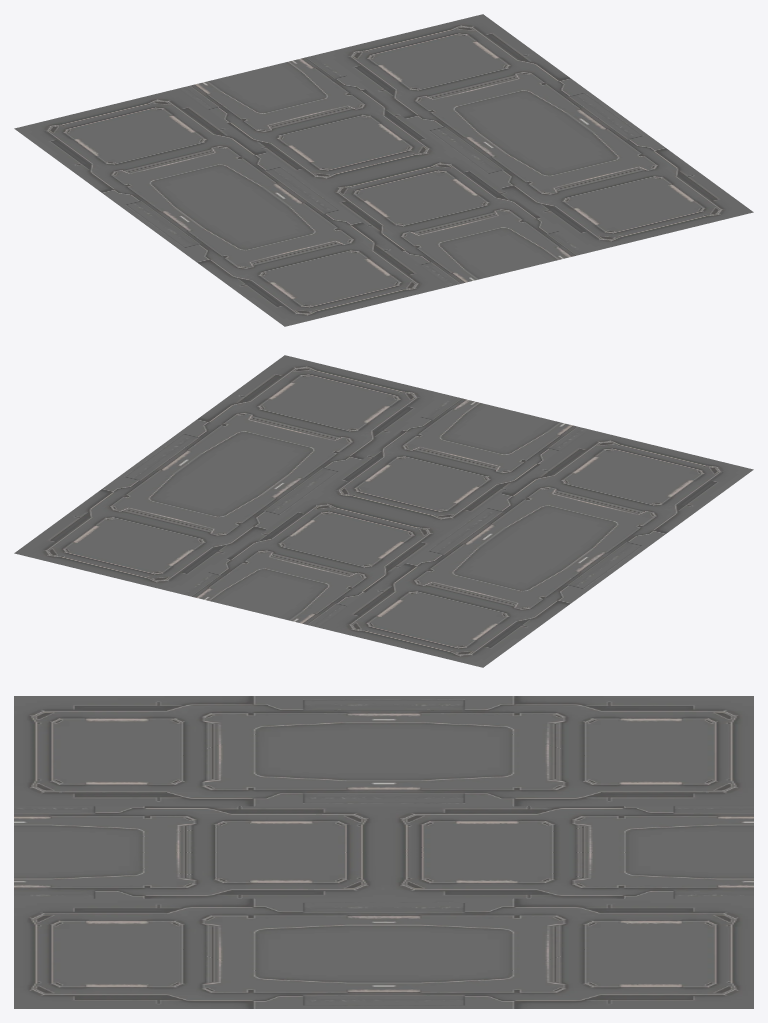
Rendered from Platform_3Plates.glb.
3 views of the same model, one above another, from view 1: azimuth 30°, elevation 25°; view 2: azimuth 150°, elevation 25°; view 3: azimuth 270°, elevation 25° (orthographic). The views are drawn at different scales.
Parts seen in each view (by area): view 1: Platform_3Plates; view 2: Platform_3Plates; view 3: Platform_3Plates.
Part boxes in pixels (x1,y1,x2,y2): Platform_3Plates: (14,14,753,326); Platform_3Plates: (14,355,753,667); Platform_3Plates: (14,696,753,1008).
Bounding box in the file's own units: 4 × 0 × 4.
1 material, 1 textured.
